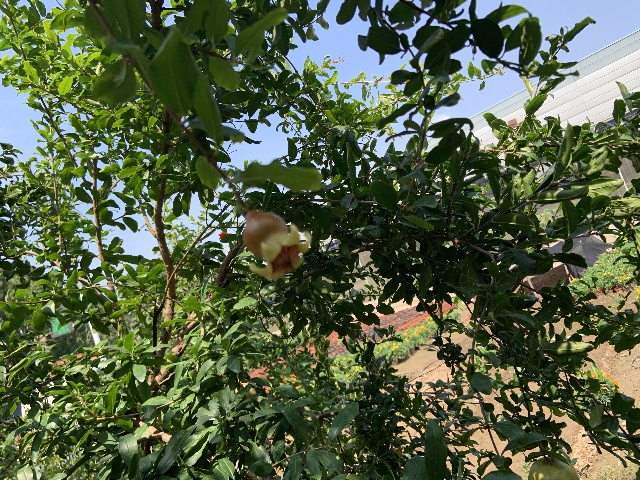early-fruit: (242, 210, 309, 279)
